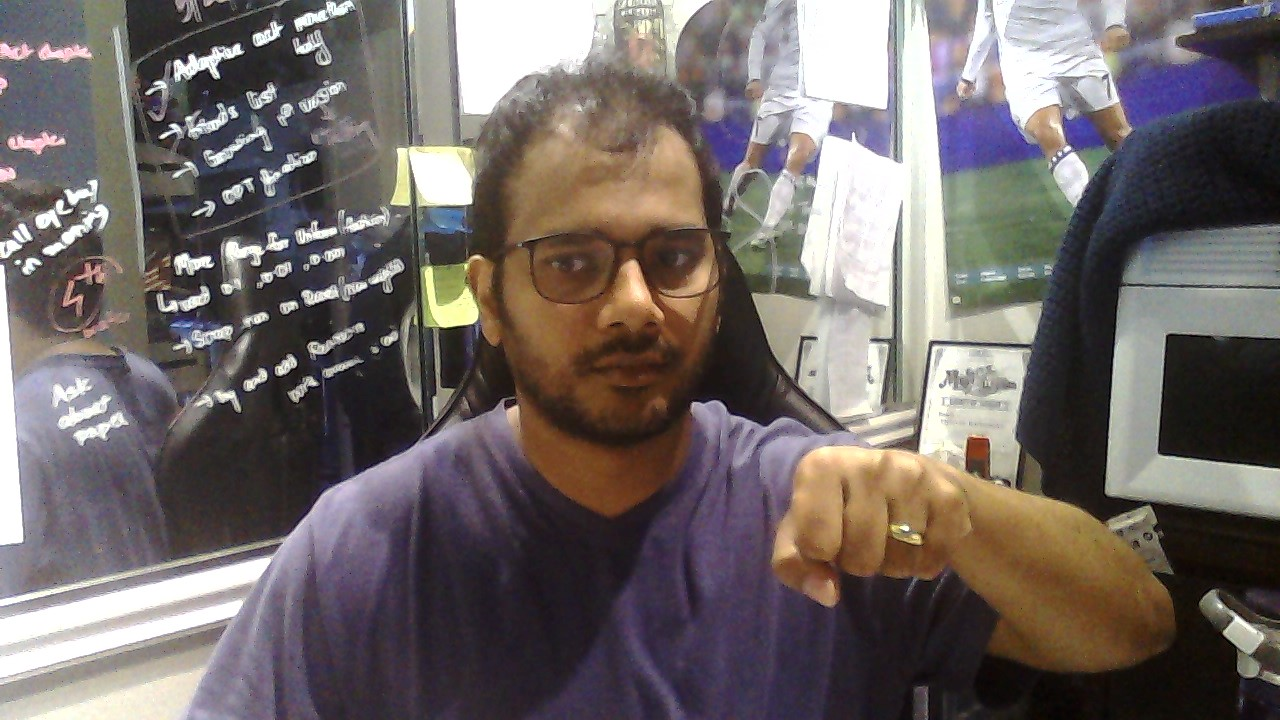Yes: (771, 446, 973, 606)
